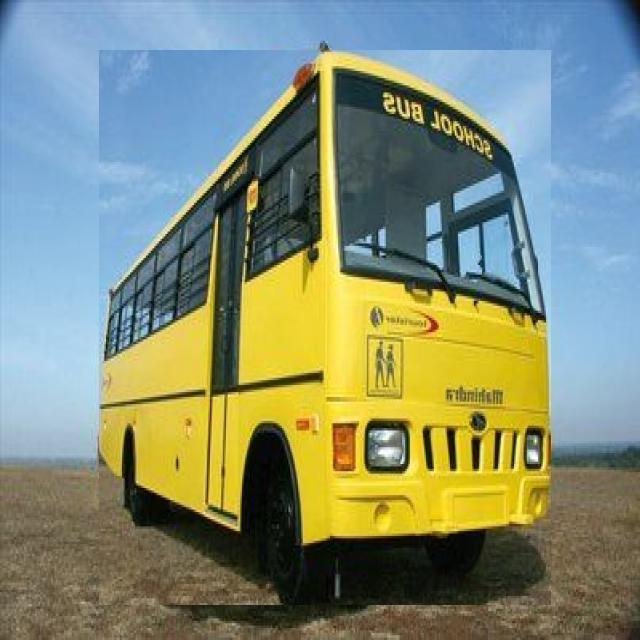bus: (99, 50, 551, 605)
